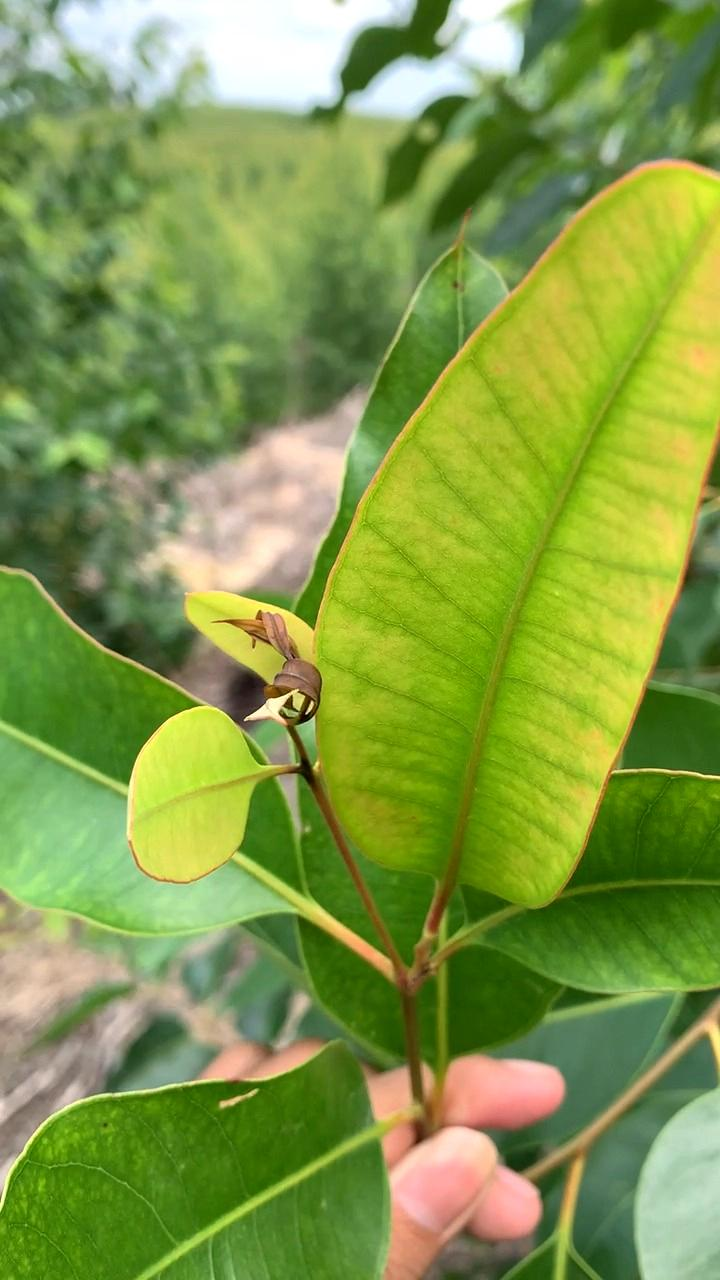Helopeltis-Withered Sprout: (212, 607, 336, 733)
